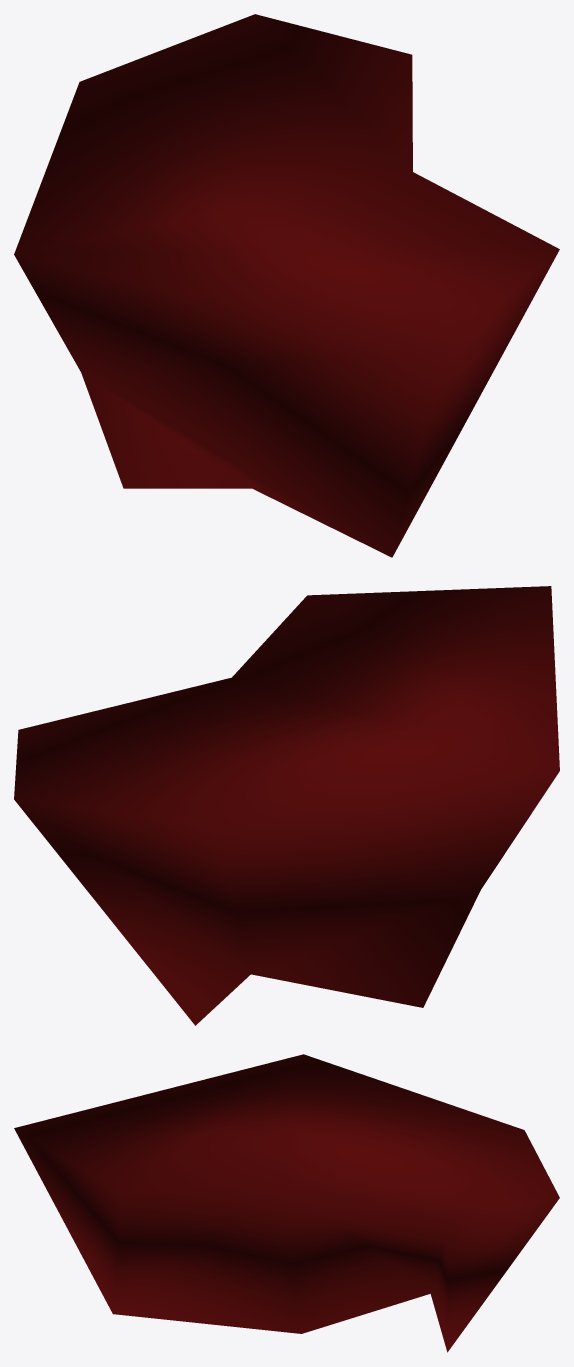
File: Ile_6_Collision.FBX
3 renders of one model, top to bottom at view 1: azimuth 30°, elevation 25°; view 2: azimuth 150°, elevation 25°; view 3: azimuth 270°, elevation 25°, orthographic. The views are drawn at different scales.
Visible parts, largest first — view 1: Ile_6_Collision; view 2: Ile_6_Collision; view 3: Ile_6_Collision.
Part boxes in pixels (box(x1,y1,x2,y2)): Ile_6_Collision: box(14, 14, 559, 557); Ile_6_Collision: box(14, 586, 559, 1025); Ile_6_Collision: box(14, 1054, 559, 1352).
Bounding box in the file's own units: 3659 × 4992 × 2021.
